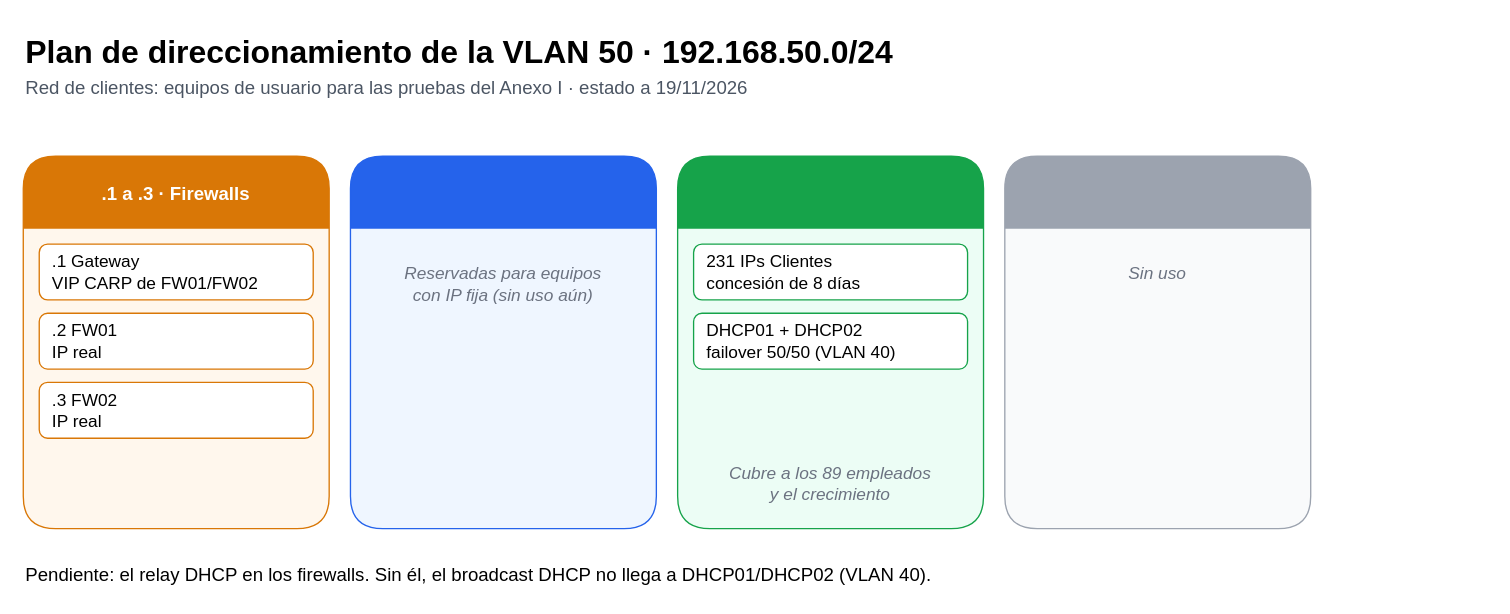
Some shapes in this 1510 by 614 pixel diagram are drawn without their labels. The box of each missing label's shape, as (x1, y1, x2, y2) in pixels:
.20 a .250 · Ámbito DHCP: (676, 155, 984, 529)
.251 a .254 · Sin asignar: (1003, 155, 1311, 529)
.4 a .19 · IPs fijas: (349, 155, 656, 529)
